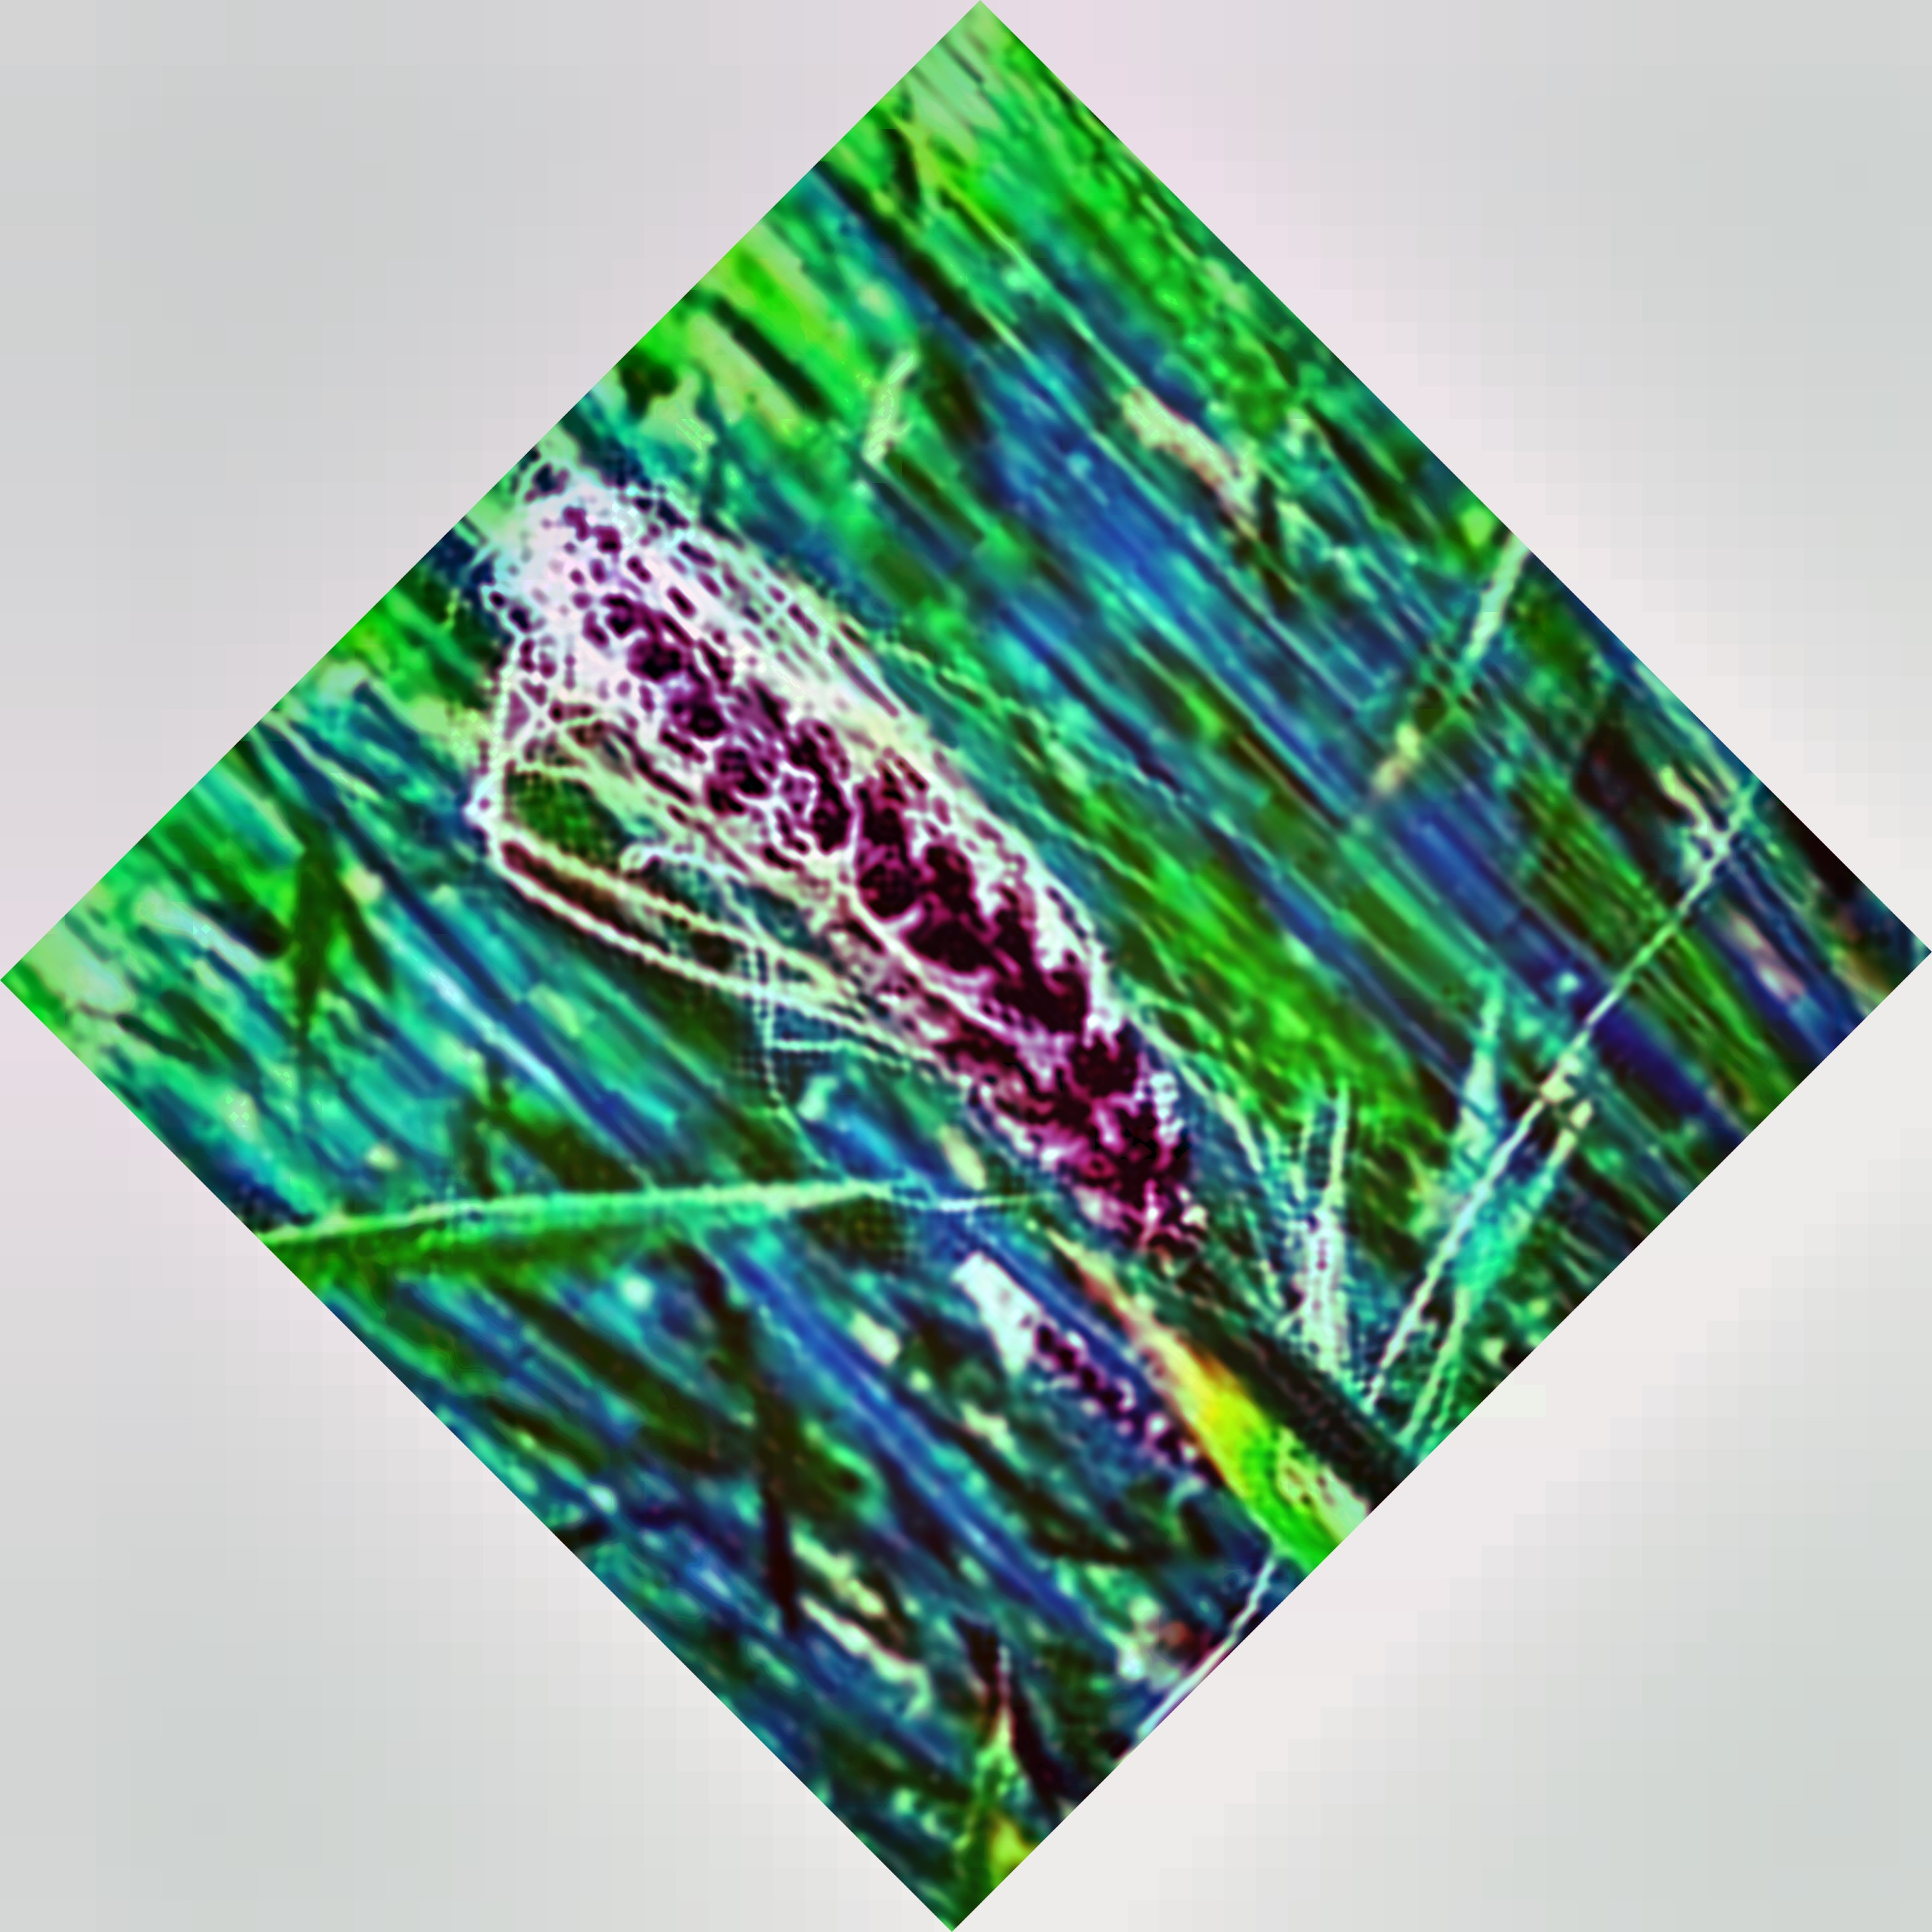Wheat Loose Smut: (570, 584, 1189, 1185)
